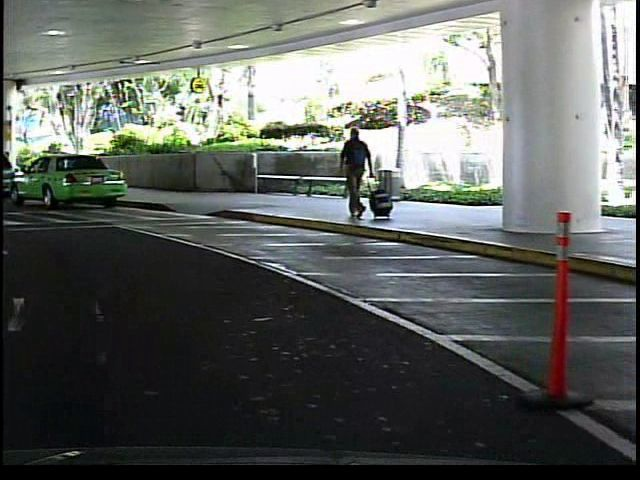person: (331, 120, 375, 229)
